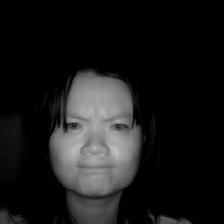sad: (32, 52, 160, 211)
